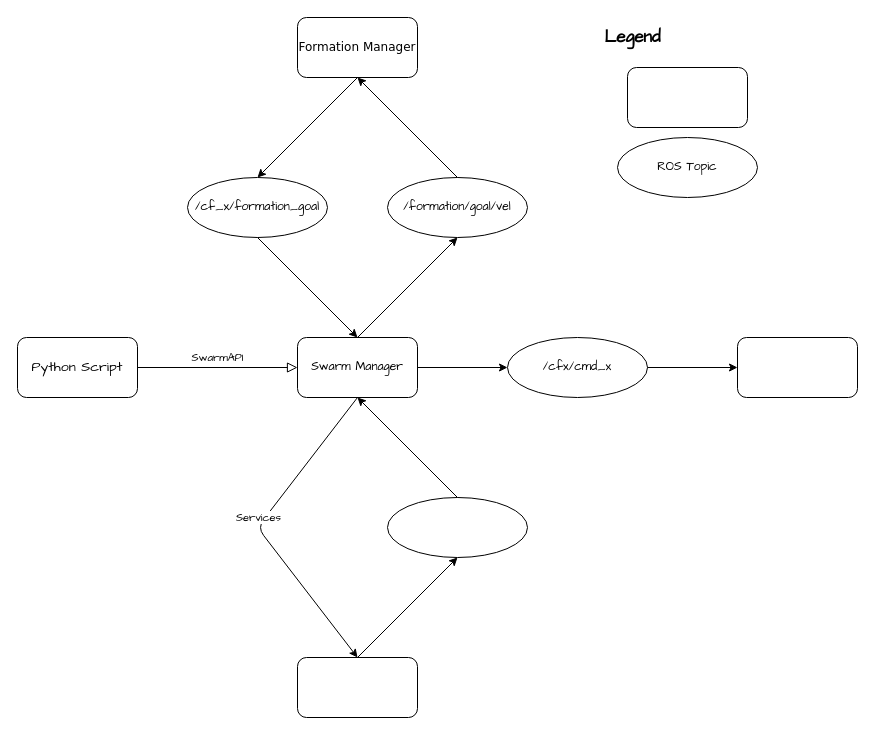
This 875x735 diagram has some shape labels left out. The shapes that lost their labels are listed below. From the top down, each one's centre as x and y in pixels, then its label:
(687,97): ROS Node
(797,367): Crazyflie ROS
(457,527): /cfx/trajectory_goal
(357,687): Trajectory Planner
